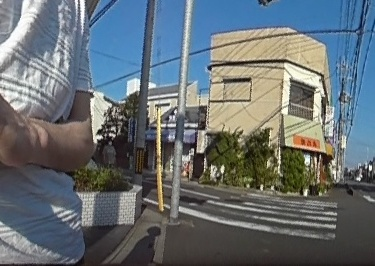person: (102, 134, 117, 169)
